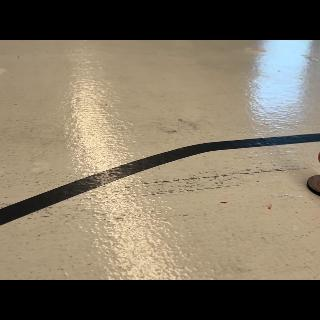teletubby: (318, 152, 320, 162)
